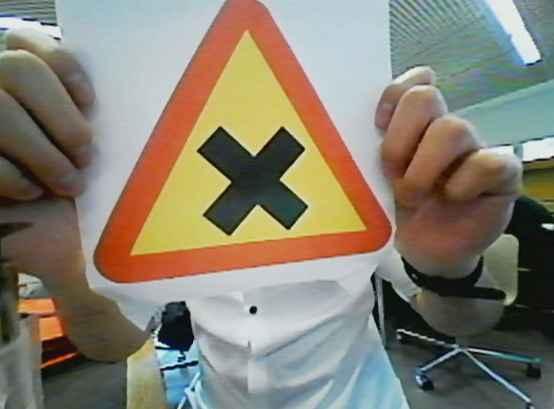junction: (59, 7, 400, 280)
